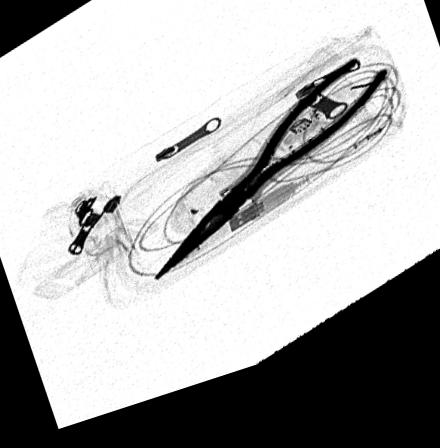Pliers: (149, 74, 392, 291)
